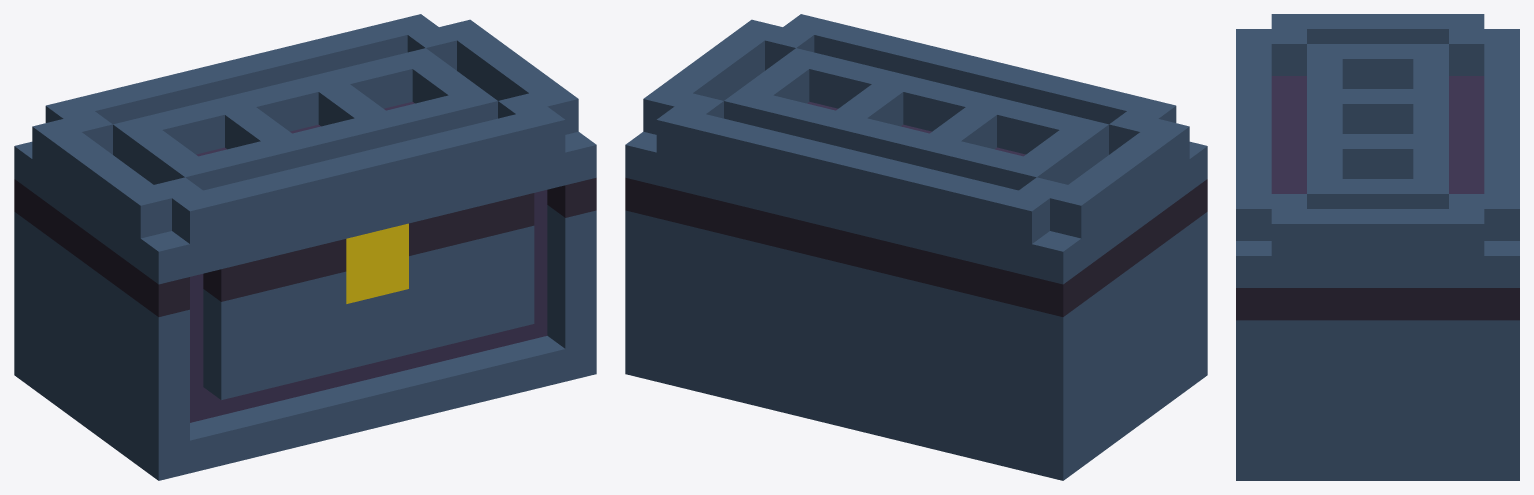
File: cofre.obj
3 renders of one model, left to right at view 1: azimuth 30°, elevation 25°; view 2: azimuth 150°, elevation 25°; view 3: azimuth 270°, elevation 25°, orthographic.
Size of the model in its own units: 14 by 8 by 8.
Materials: 1 (1 with a texture image).
